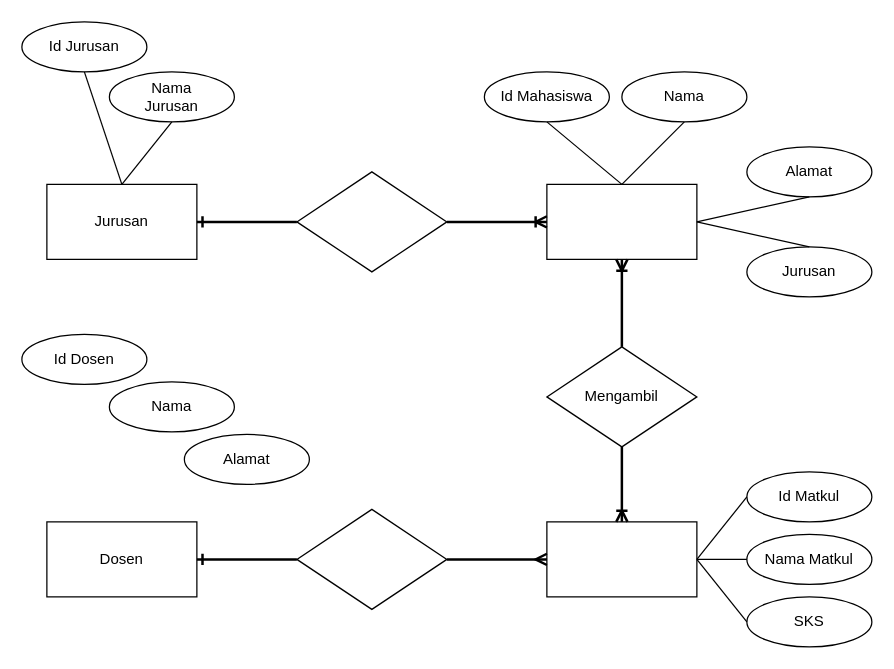
The diagram is 894 pixels wide and 669 high, and some of its shapes have lost their labels. Each missing label, with the centre of its shape:
Mahasiswa: (x=621, y=221)
Mata Kuliah: (x=621, y=559)
Mengajar: (x=371, y=558)
Punya: (x=371, y=221)
